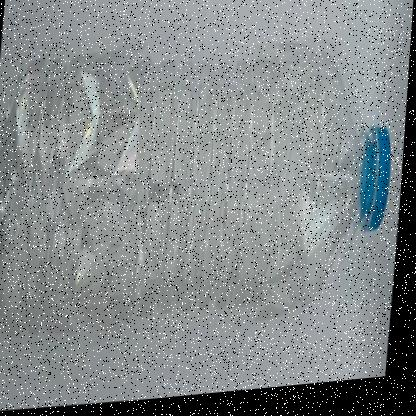bottle cap: (237, 17, 414, 344)
